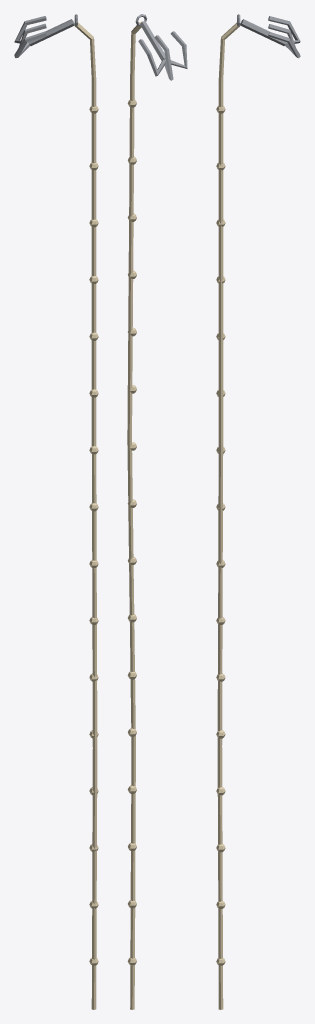
The model's file is CR_Garfio_Alto.fbx.
The picture shows the model from 3 angles, left to right: view 1: azimuth 90°, elevation 25°; view 2: azimuth 210°, elevation 25°; view 3: azimuth 270°, elevation 25°; orthographic projection.
Parts seen in each view (by area): view 1: CR_Garfio_Alto; view 2: CR_Garfio_Alto; view 3: CR_Garfio_Alto.
Part boxes in pixels (<box>): CR_Garfio_Alto: <box>14,14,98,1009</box>; CR_Garfio_Alto: <box>127,14,187,1009</box>; CR_Garfio_Alto: <box>216,14,300,1009</box>.
Size of the model in its own units: 0.4293 by 10.51 by 0.809.
